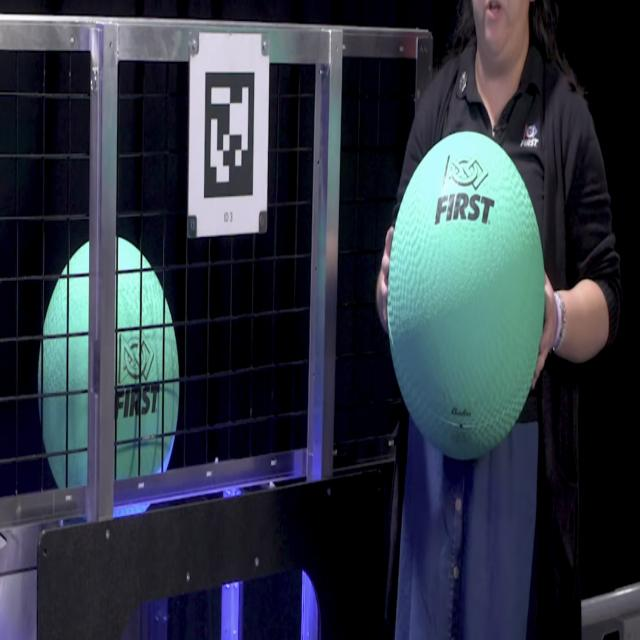Algae: (389, 135, 544, 463), (40, 237, 180, 492)
